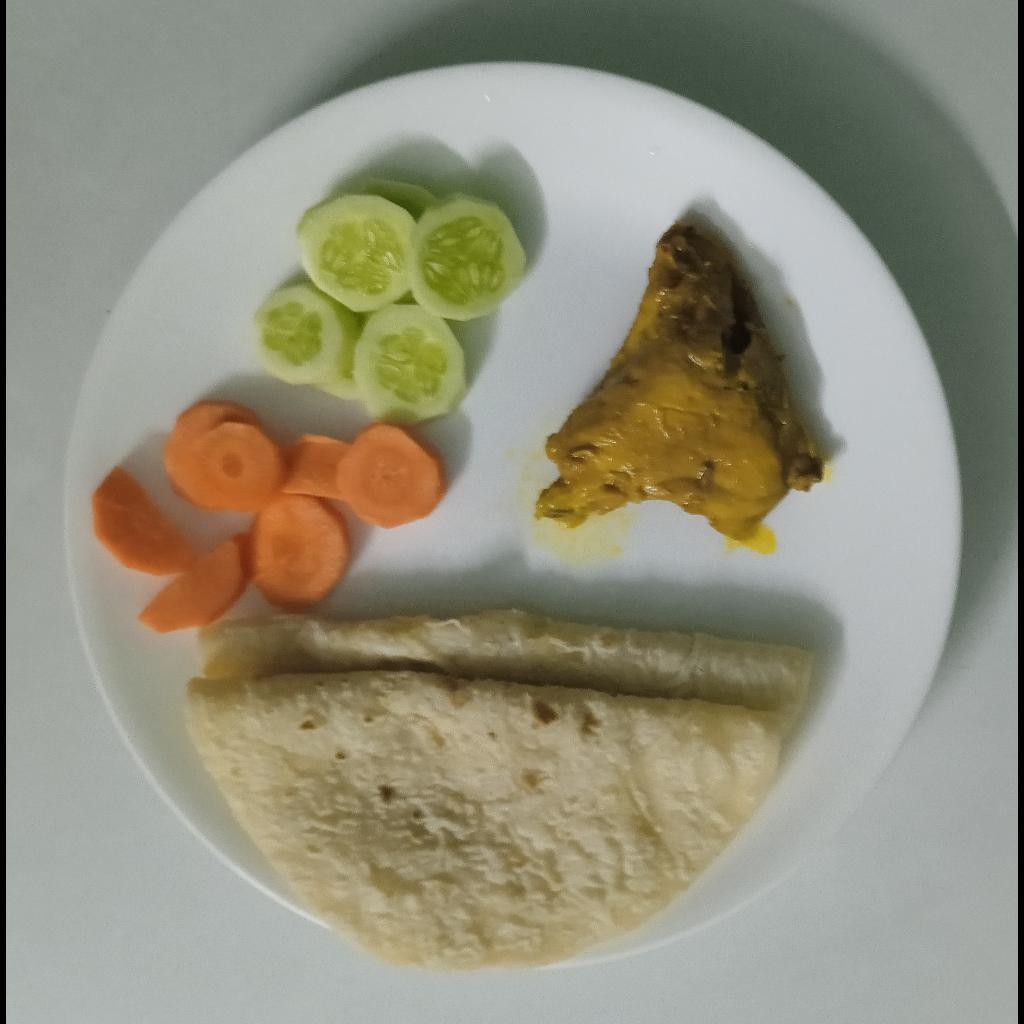carrot: (90, 395, 448, 639)
chicken: (537, 224, 831, 538)
cucumber: (249, 172, 534, 427)
ruti: (181, 605, 811, 978)
